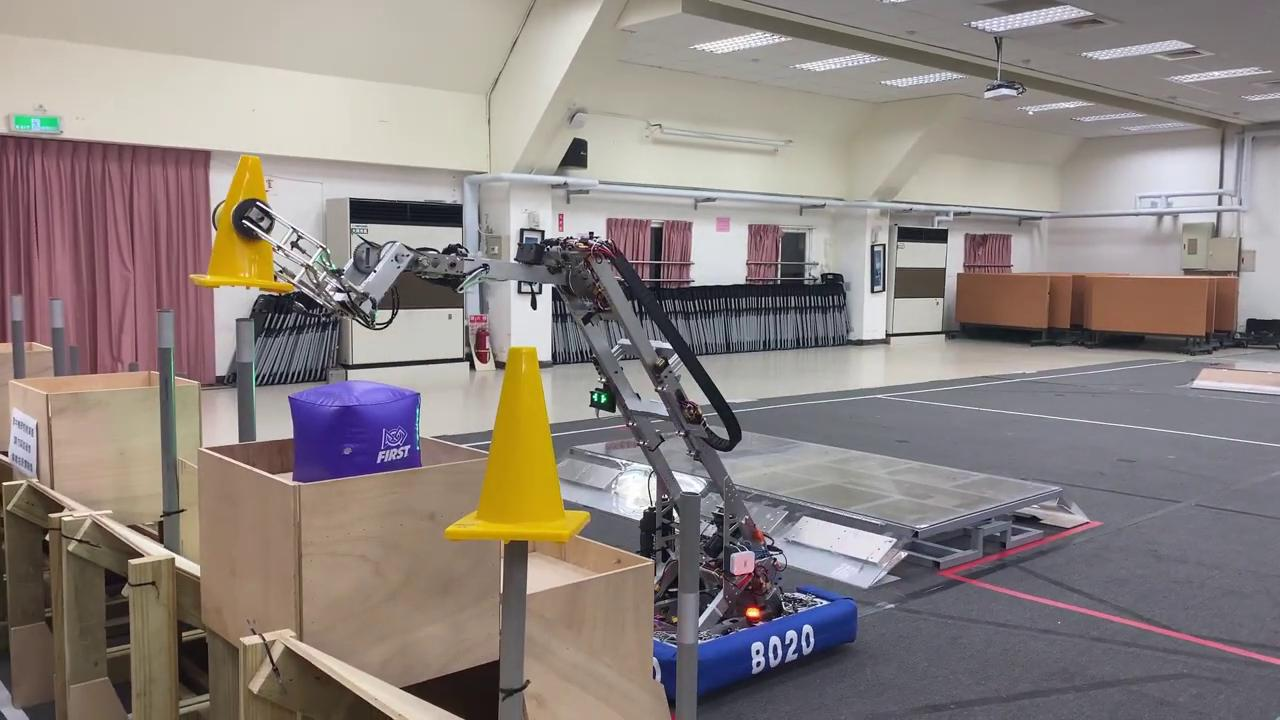robot: (196, 140, 871, 696)
